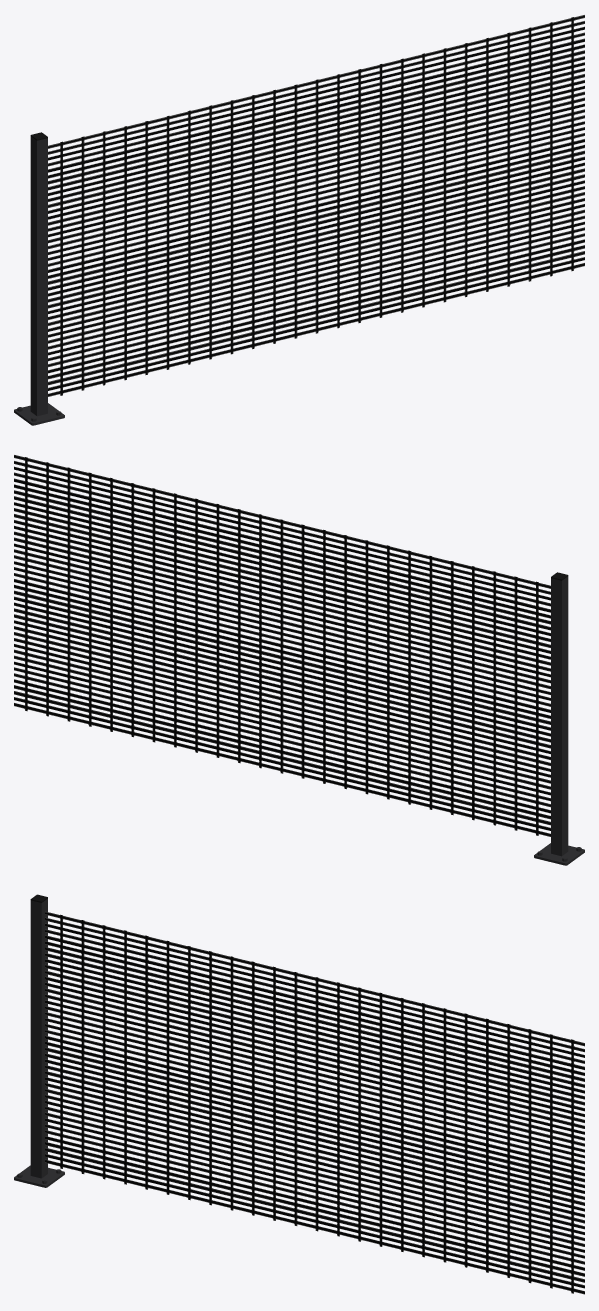
Rendered from SM05_Safety_Fence_01_Straight_2500_Half.fbx.
3 renders of one model, top to bottom at view 1: azimuth 30°, elevation 25°; view 2: azimuth 150°, elevation 25°; view 3: azimuth 330°, elevation 25°, orthographic.
Visible parts, largest first — view 1: SM05_Safety_Fence_01_Straight_2500_Half; view 2: SM05_Safety_Fence_01_Straight_2500_Half; view 3: SM05_Safety_Fence_01_Straight_2500_Half.
Part boxes in pixels (box(x1,y1,x2,y2)): SM05_Safety_Fence_01_Straight_2500_Half: box(14, 15, 584, 425); SM05_Safety_Fence_01_Straight_2500_Half: box(14, 455, 584, 865); SM05_Safety_Fence_01_Straight_2500_Half: box(14, 894, 584, 1294).
Size of the model in its own units: 2.55 by 1.21 by 0.15.
